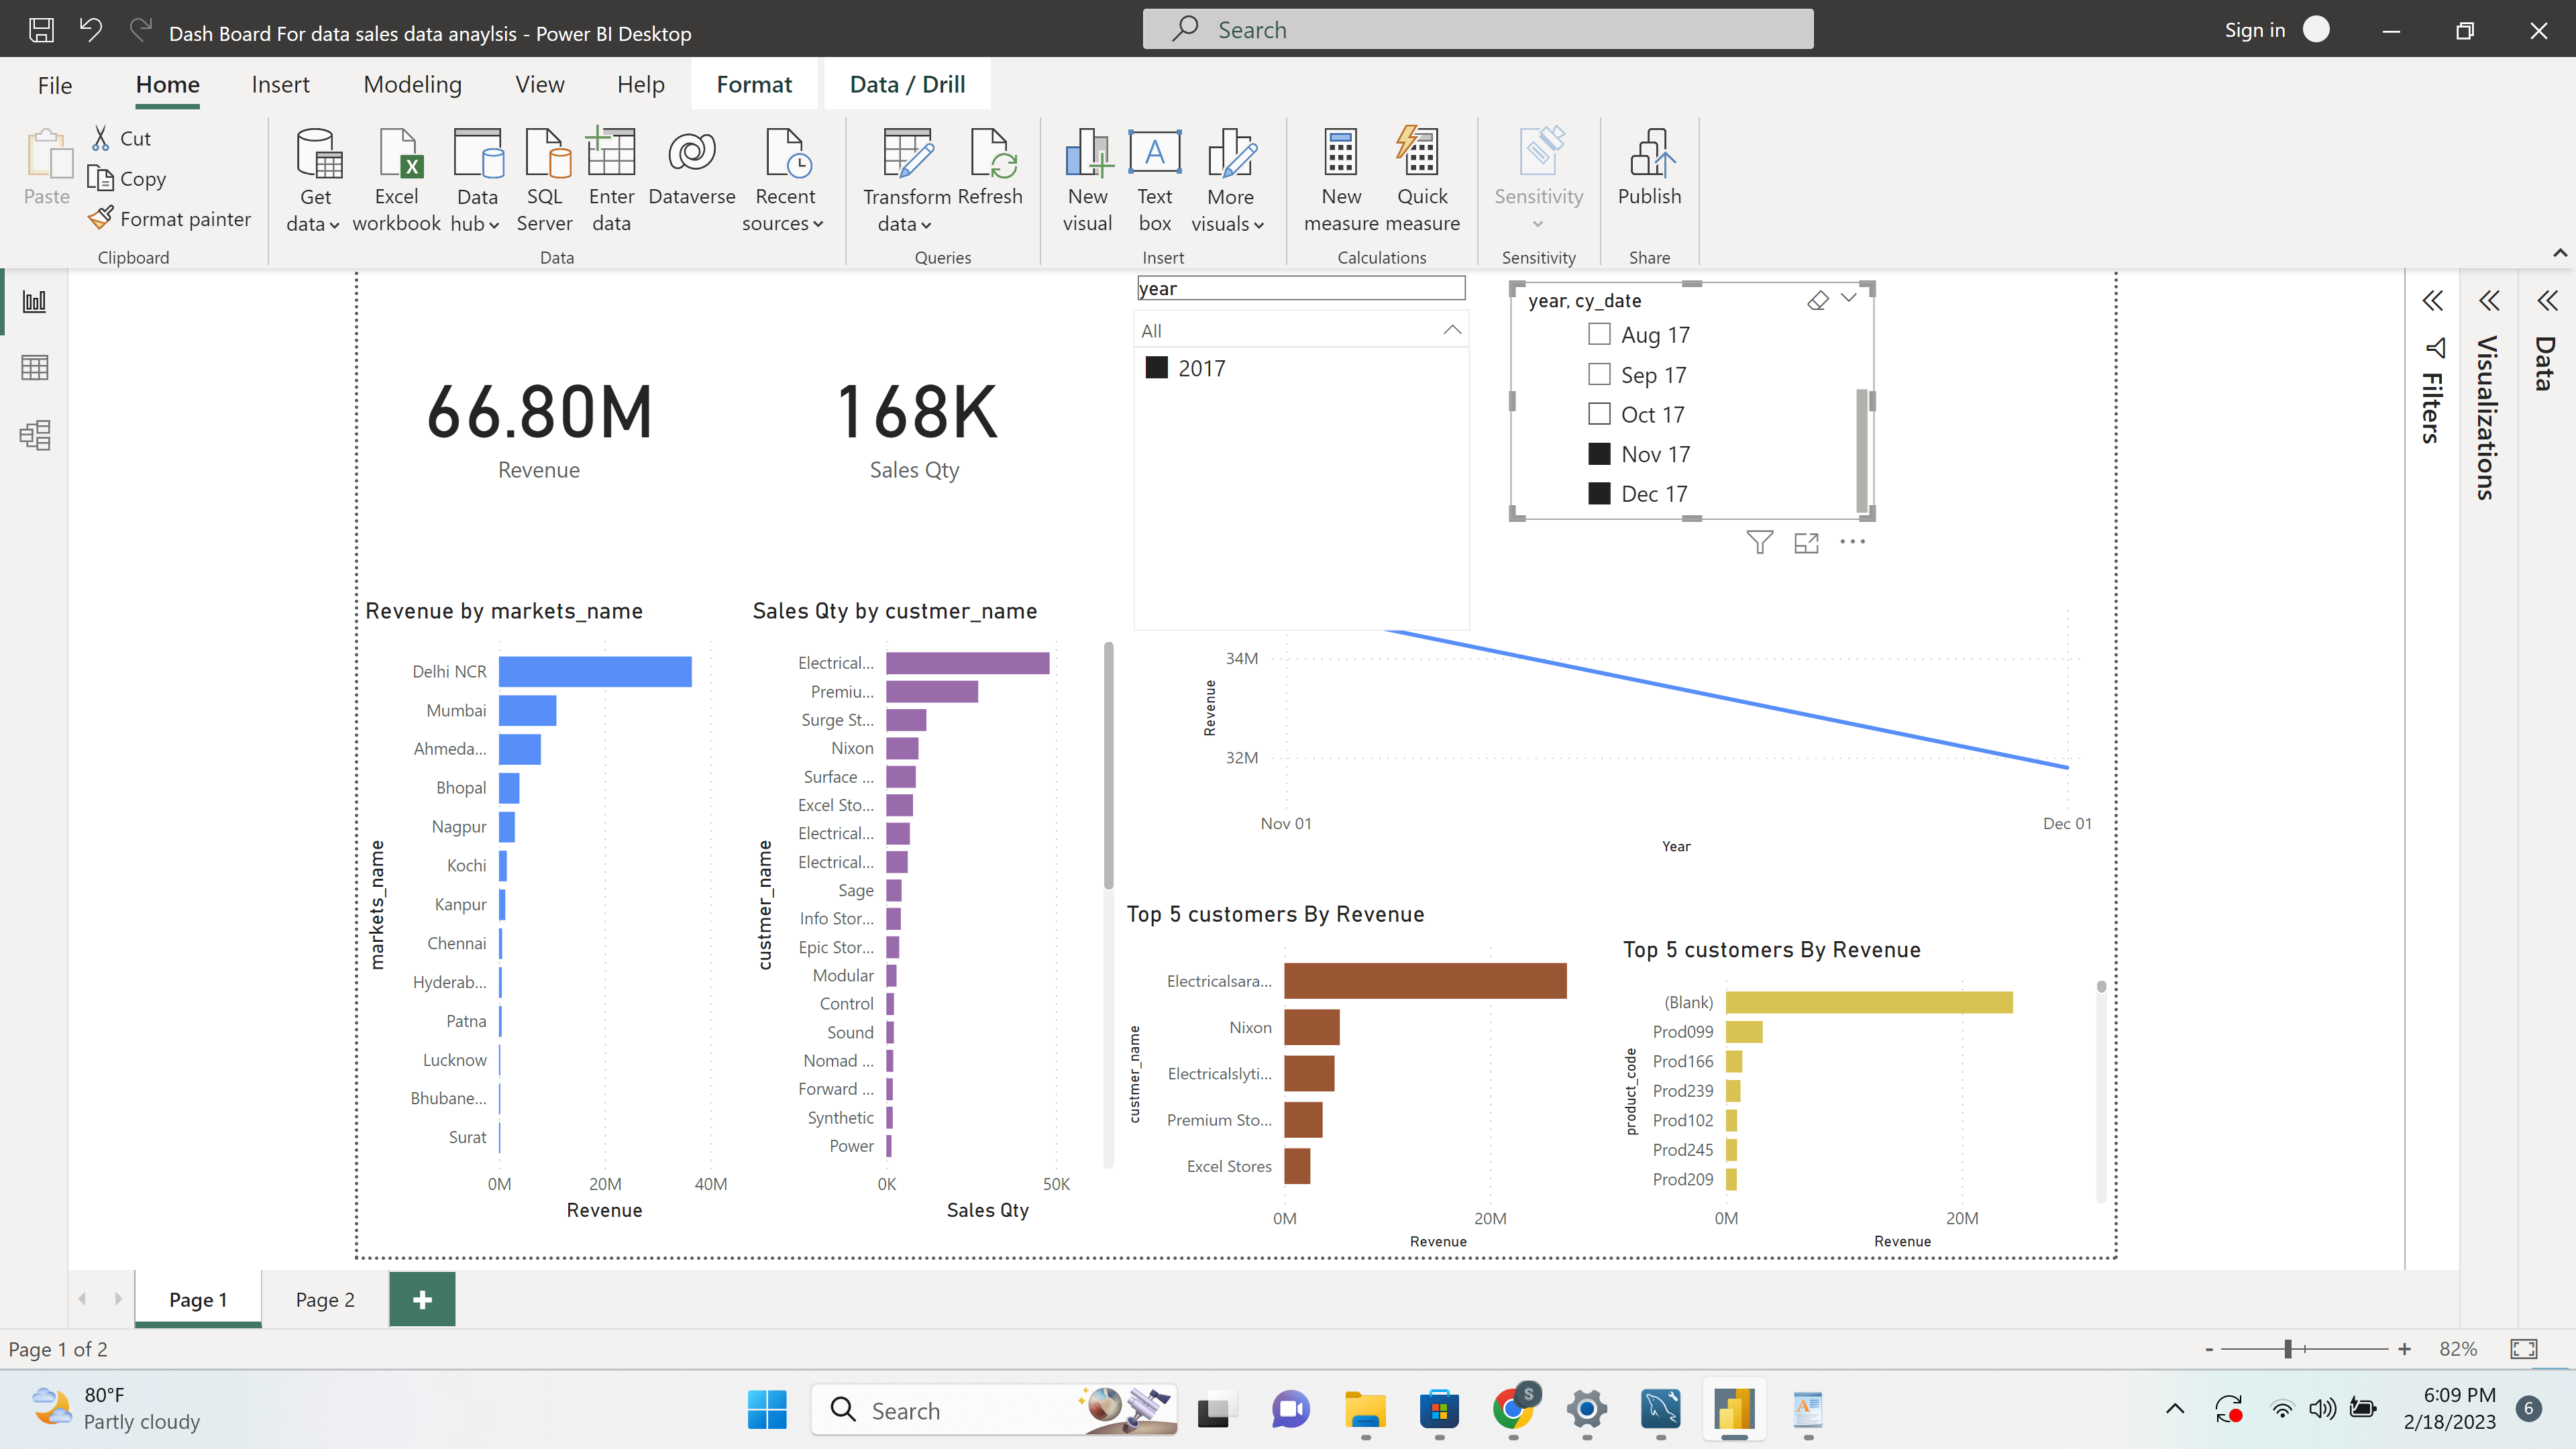

The dashboard page shown, as its layout file describes it:
{"tool":"powerbi","page":{"name":"Page 1","canvas":[1280,720],"ordinal":0},"visuals":[{"type":"card","fields":{"Values":["BaseMeasures.Revenue"]},"box":[0,0,263.5,215.4],"z":0},{"type":"card","fields":{"Values":["BaseMeasures.Sales Qty"]},"box":[273.5,0,263.5,215.4],"z":1000},{"type":"barChart","fields":{"Y":["BaseMeasures.Revenue"],"Category":["sales markets.markets_name","sales customers (2).custmer_name"]},"box":[0,239.8,273.7,459.3],"z":2000},{"type":"barChart","fields":{"Y":["BaseMeasures.Sales Qty"],"Category":["sales customers (2).custmer_name"]},"box":[281.8,239.8,273.7,459.3],"z":3000},{"type":"slicer","fields":{"Values":["sales date.year"]},"box":[546,0,265.5,173.4],"z":4000},{"type":"textbox","box":[828.5,0,265,270],"z":5000},{"type":"slicer","fields":{"Values":["sales date.year","sales date.cy_date"]},"box":[840,9.5,265.5,173.4],"z":6000},{"type":"slicer","fields":{"Values":["sales date.year"]},"box":[555,0,265.3,173.6],"z":7000},{"type":"barChart","title":"Top 5 customers By Revenue","fields":{"Y":["BaseMeasures.Revenue"],"Category":["sales customers (2).custmer_name"]},"box":[555,460.8,361.8,259.2],"z":8000},{"type":"barChart","title":"Top 5 customers By Revenue","fields":{"Y":["BaseMeasures.Revenue"],"Category":["sales products.product_code"]},"box":[916.8,486.5,363.1,233.5],"z":9000},{"type":"lineChart","title":"Revenue_Trend","fields":{"Category":["sales date.cy_date.Variation.Date Hierarchy.Year","sales date.cy_date.Variation.Date Hierarchy.Quarter","sales date.cy_date.Variation.Date Hierarchy.Month","sales date.cy_date.Variation.Date Hierarchy.Day"],"Y":["BaseMeasures.Revenue"]},"box":[609.7,215.4,659.8,216.8],"z":10000}]}

Visuals, with their boxes on the page's 1280x720 design canvas (x1, y1, x2, y2). These are canvas units, not pixel positions in the 2576x1449 screenshot, which may show the page scaled, cropped or inside an application window:
card - BaseMeasures.Revenue: [x1=0, y1=0, x2=264, y2=215]
card - BaseMeasures.Sales Qty: [x1=274, y1=0, x2=537, y2=215]
barChart - BaseMeasures.Revenue x sales markets.markets_name: [x1=0, y1=240, x2=274, y2=699]
barChart - BaseMeasures.Sales Qty x sales customers (2).custmer_name: [x1=282, y1=240, x2=556, y2=699]
slicer - sales date.year: [x1=546, y1=0, x2=812, y2=173]
textbox: [x1=828, y1=0, x2=1094, y2=270]
slicer - sales date.year x sales date.cy_date: [x1=840, y1=10, x2=1106, y2=183]
slicer - sales date.year: [x1=555, y1=0, x2=820, y2=174]
"Top 5 customers By Revenue" barChart: [x1=555, y1=461, x2=917, y2=720]
"Top 5 customers By Revenue" barChart: [x1=917, y1=486, x2=1280, y2=720]
"Revenue_Trend" lineChart: [x1=610, y1=215, x2=1270, y2=432]
